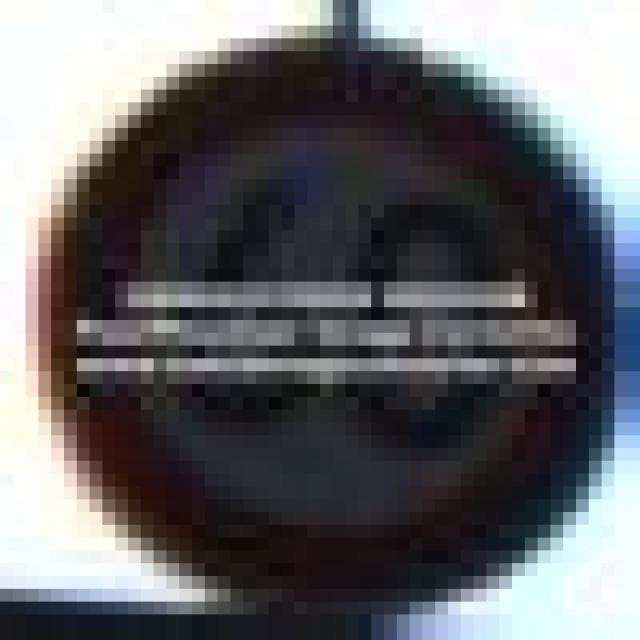SPEED_LIMIT_60: (39, 38, 602, 576)
